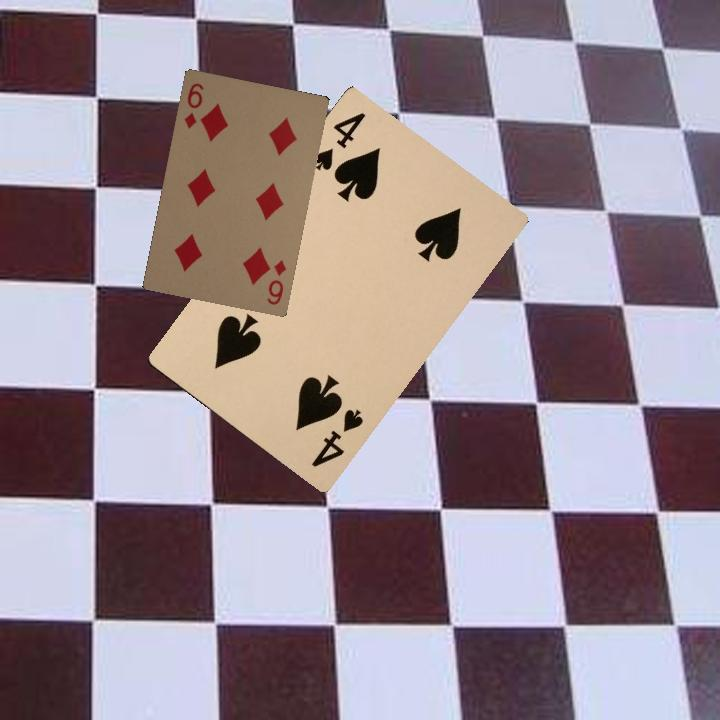4s: (307, 404, 366, 470), (309, 108, 368, 174)
6d: (263, 255, 289, 308), (180, 79, 206, 131)
